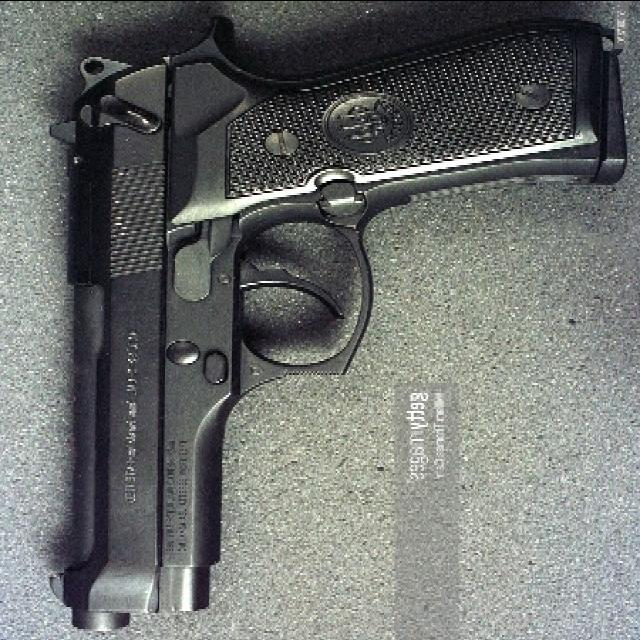handgun: (37, 15, 626, 627)
